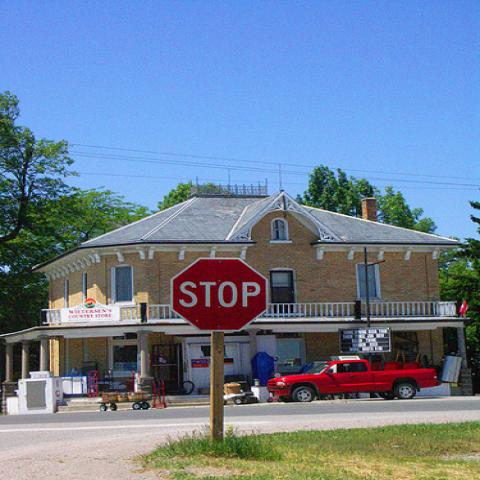car: (266, 360, 436, 404)
truck: (263, 357, 440, 403)
